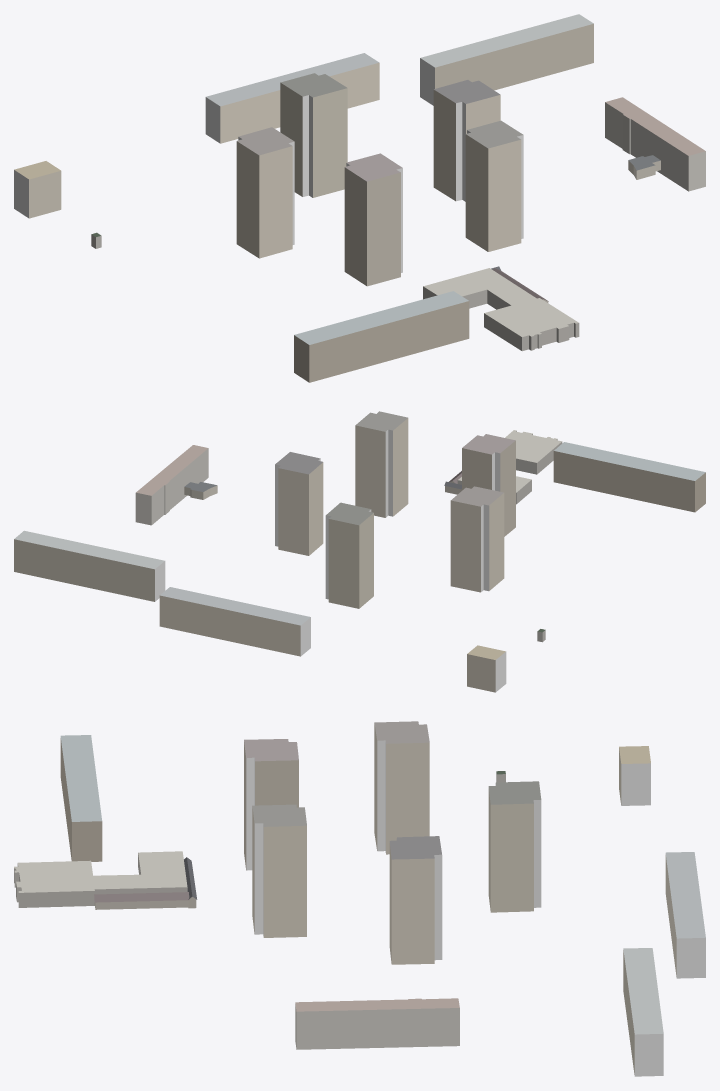
3 renders of one model, top to bottom at view 1: azimuth 30°, elevation 25°; view 2: azimuth 150°, elevation 25°; view 3: azimuth 270°, elevation 25°, orthographic. The views are drawn at different scales.
Parts seen in each view (by area): view 1: tuile; view 2: tuile; view 3: tuile.
Boxes of the visible parts, x1,y1,x2,y2 form: tuile: [14, 14, 705, 382]; tuile: [14, 411, 705, 692]; tuile: [14, 721, 705, 1076].
Bounding box in the file's own units: 281 × 58.53 × 274.
